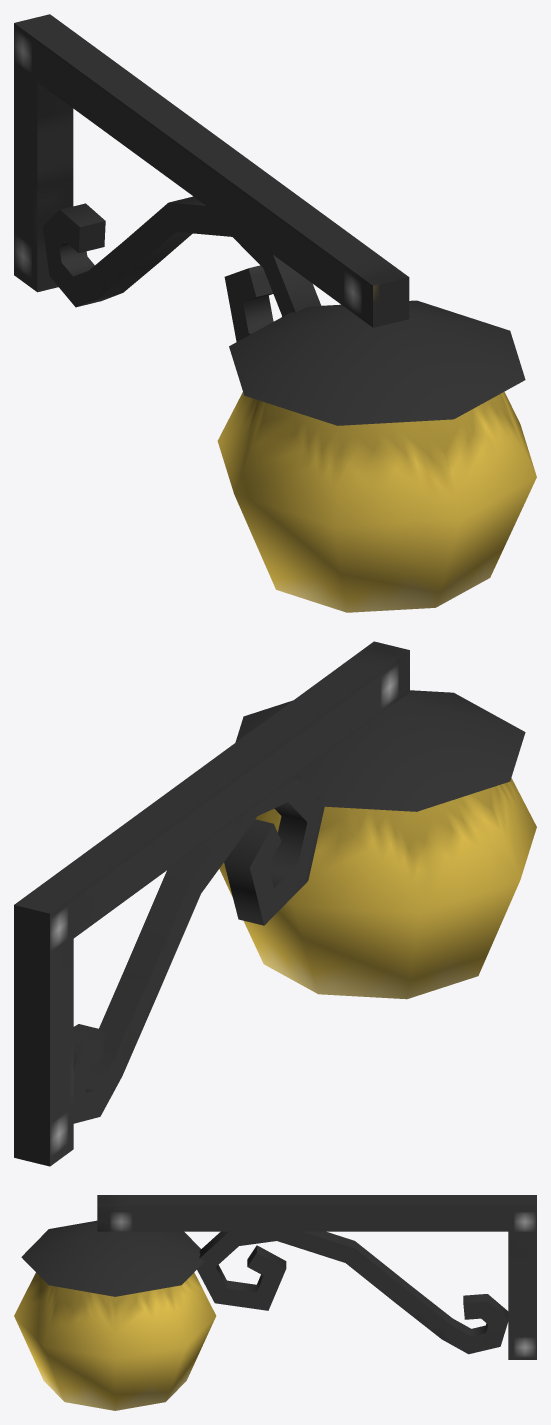
Rendered from Street_Light_001_L.FBX.
The picture shows the model from 3 angles, top to bottom: view 1: azimuth 30°, elevation 25°; view 2: azimuth 150°, elevation 25°; view 3: azimuth 270°, elevation 25°; orthographic projection. The views are drawn at different scales.
Visible parts, largest first — view 1: Street_Light_001_L; view 2: Street_Light_001_L; view 3: Street_Light_001_L.
Boxes of the visible parts, bbox=[...] form: Street_Light_001_L: bbox=[14, 14, 536, 612]; Street_Light_001_L: bbox=[14, 641, 536, 1166]; Street_Light_001_L: bbox=[14, 1195, 536, 1410].
Size of the model in its own units: 33.28 by 86.01 by 37.57.
